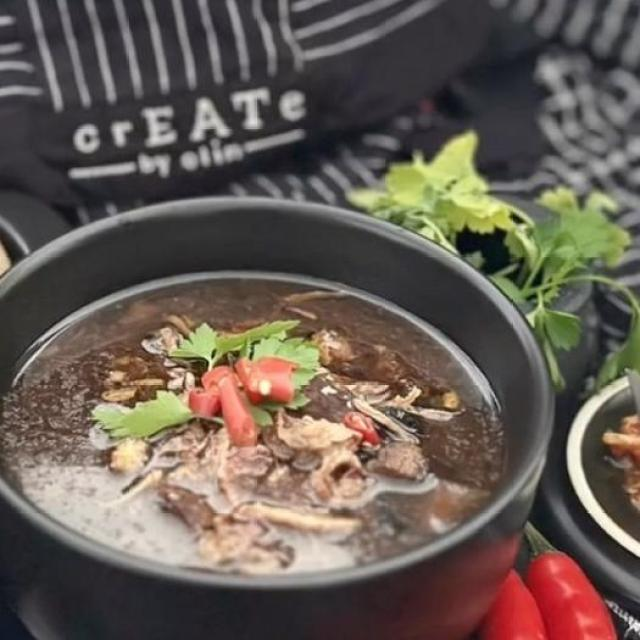Rawon: (2, 276, 497, 570)
